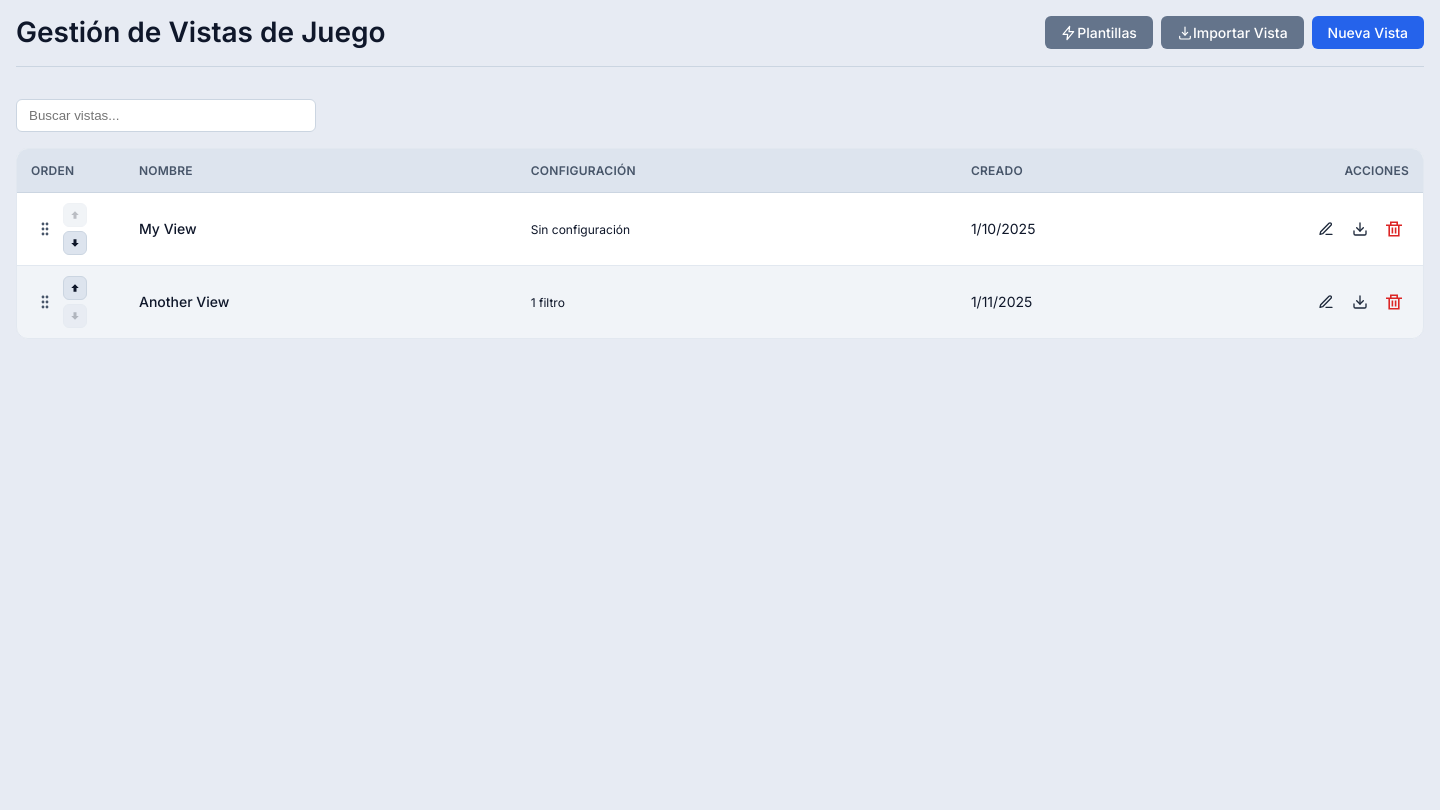
Test: AdminGameViews › shows import panel on toggle
The image size is (1440, 810).
Click the button "Importar Vista": (1232, 33) [1161,16,1304,49]
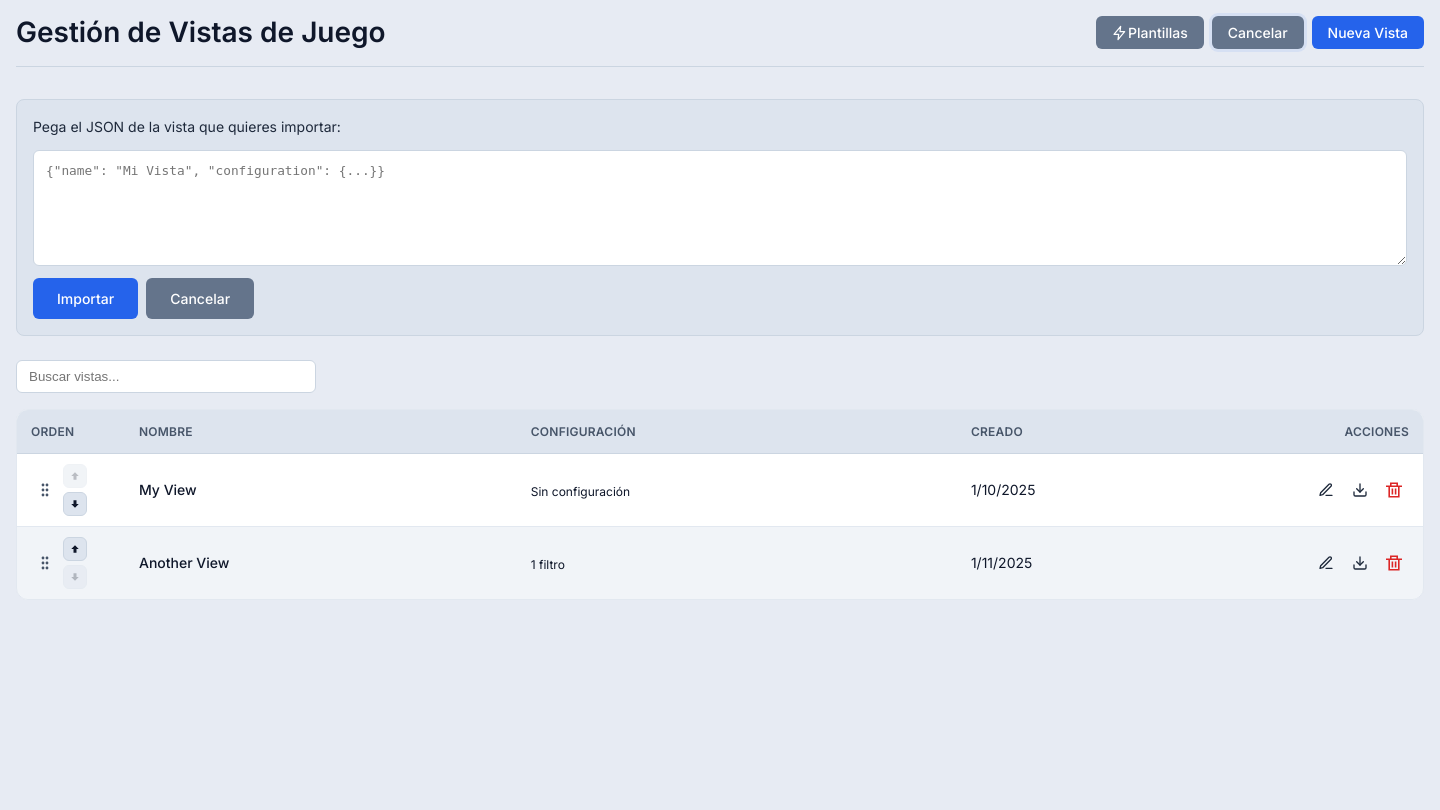
expect the text box with placeholder "{\"name\": \"Mi Vista\", \"configuration\": {...}}" is shown: met, box [33,150,1407,266]
